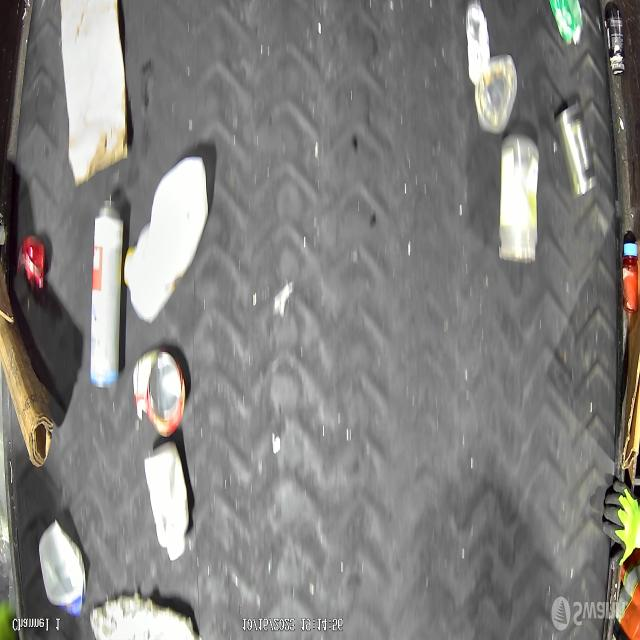can: (133, 350, 188, 438), (554, 100, 597, 201), (548, 0, 584, 51)
milk_jug: (123, 152, 212, 324)
